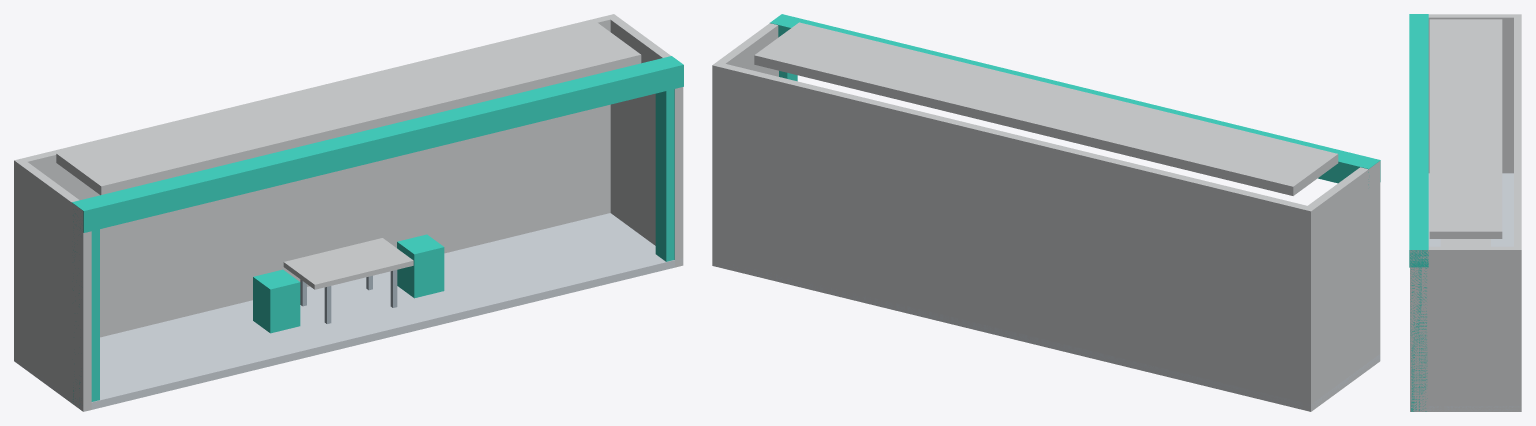
3 renders of one model, left to right at view 1: azimuth 30°, elevation 25°; view 2: azimuth 150°, elevation 25°; view 3: azimuth 270°, elevation 25°, orthographic. The views are drawn at different scales.
Parts seen in each view (by area): view 1: Exhibition Booth Concept; view 2: Exhibition Booth Concept; view 3: Exhibition Booth Concept.
Boxes of the visible parts, x1,y1,x2,y2 form: Exhibition Booth Concept: (14,14,683,411); Exhibition Booth Concept: (712,14,1380,411); Exhibition Booth Concept: (1409,14,1521,411).
Bounding box in the file's own units: 10 × 3.34 × 2.01.
